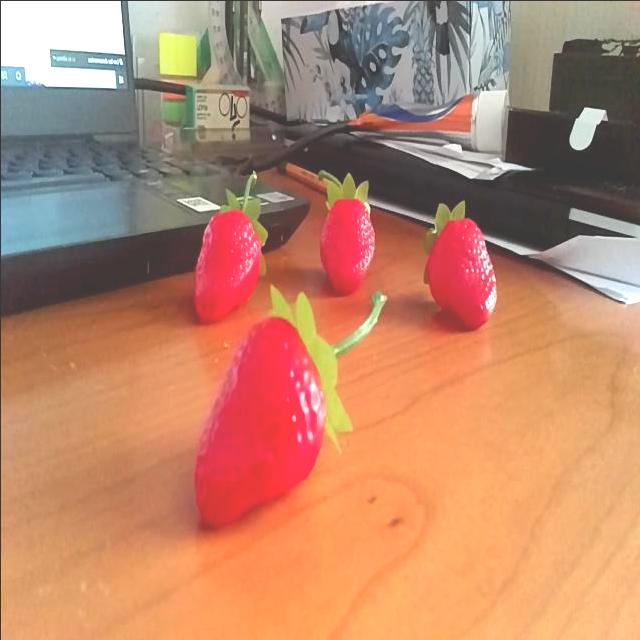ripe: (185, 311, 336, 536), (182, 198, 276, 330), (416, 195, 503, 332), (315, 182, 380, 300)
